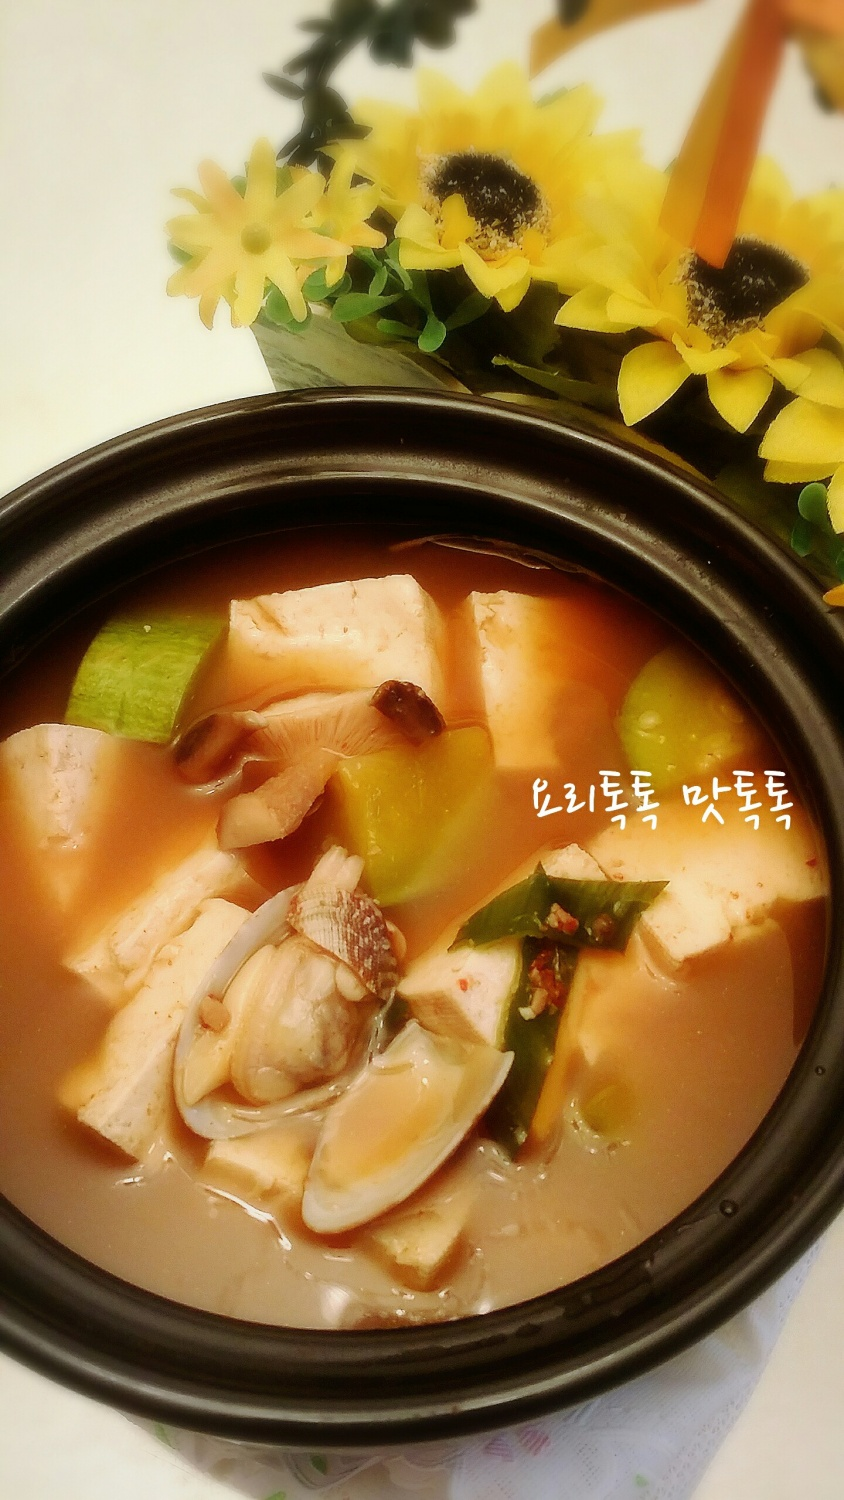doenjangjjigae: (4, 521, 833, 1342)
